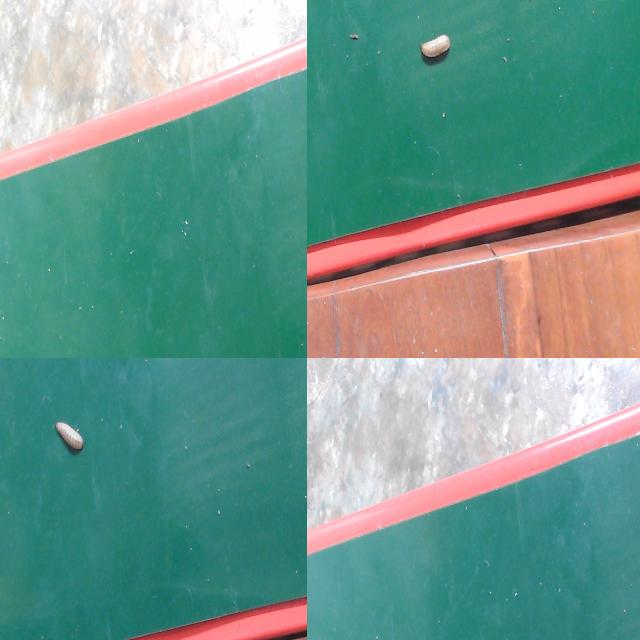Maggot: (54, 423, 85, 456), (420, 35, 451, 66)
